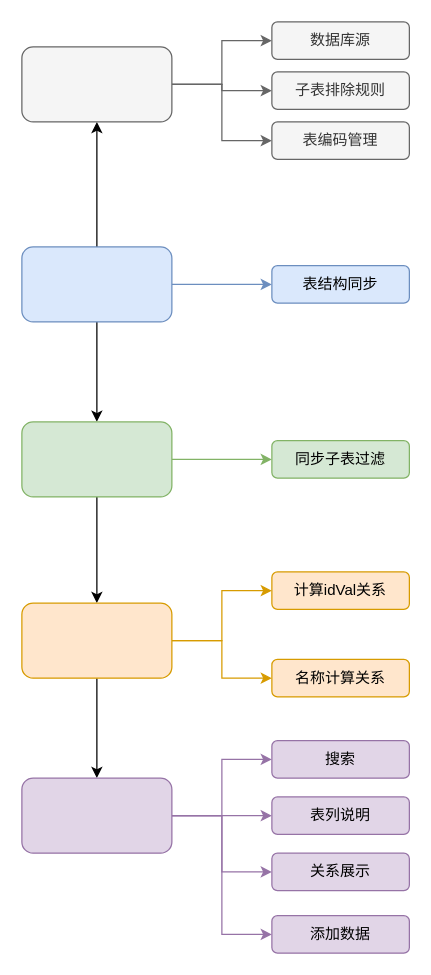
This 431x975 diagram has some shape labels left out. The shapes that lost their labels are listed below. From the top down, each one's box as (x1, y1, x2, y2) in pixels, then its label:
(21, 46, 172, 122): 配置
(21, 246, 172, 322): 定义生成
(21, 421, 172, 497): 定义过滤
(21, 602, 172, 678): 关系搭建
(21, 777, 172, 853): 字典展示
